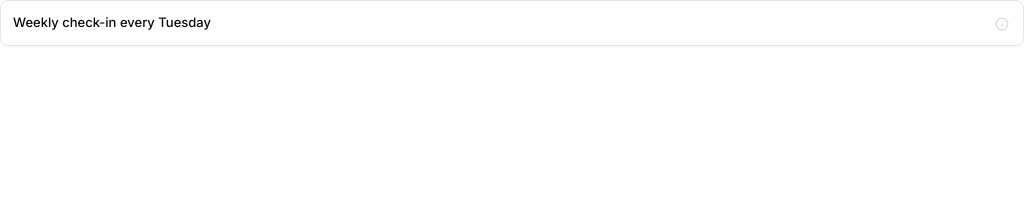
CompactAgreementCard › cancels edit mode when Cancel is clicked
# Flip to back → Edit → Cancel
Step 1. Click the button named "agreement options" → (1002, 24), box x1=993 y1=15 x2=1011 y2=33
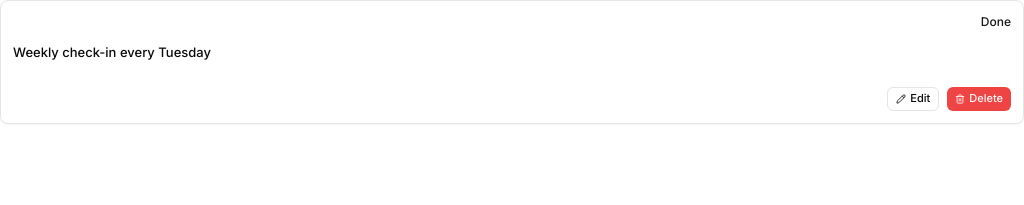
Step 2. Click the button "Edit" → (913, 98), box x1=887 y1=86 x2=939 y2=110
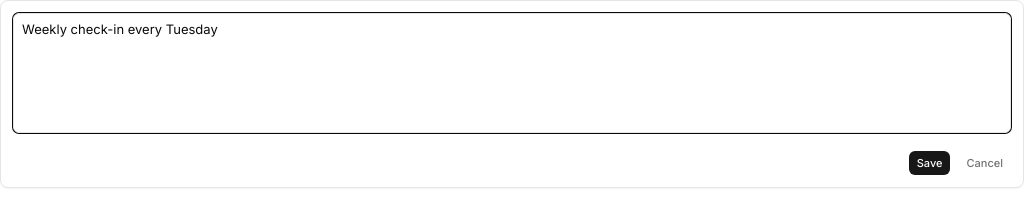
Step 3. Click the button "Cancel" → (985, 163), box x1=958 y1=151 x2=1011 y2=175
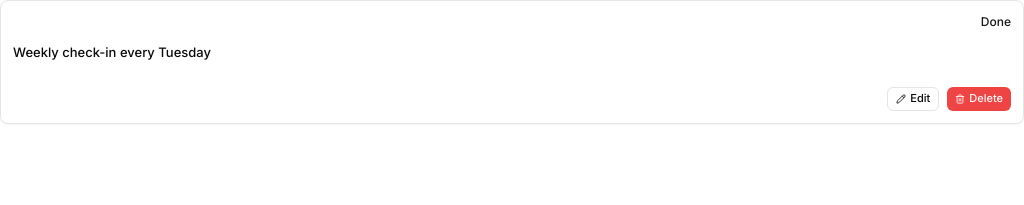
Check: the button "Done" is shown, box x1=981 y1=13 x2=1011 y2=31
